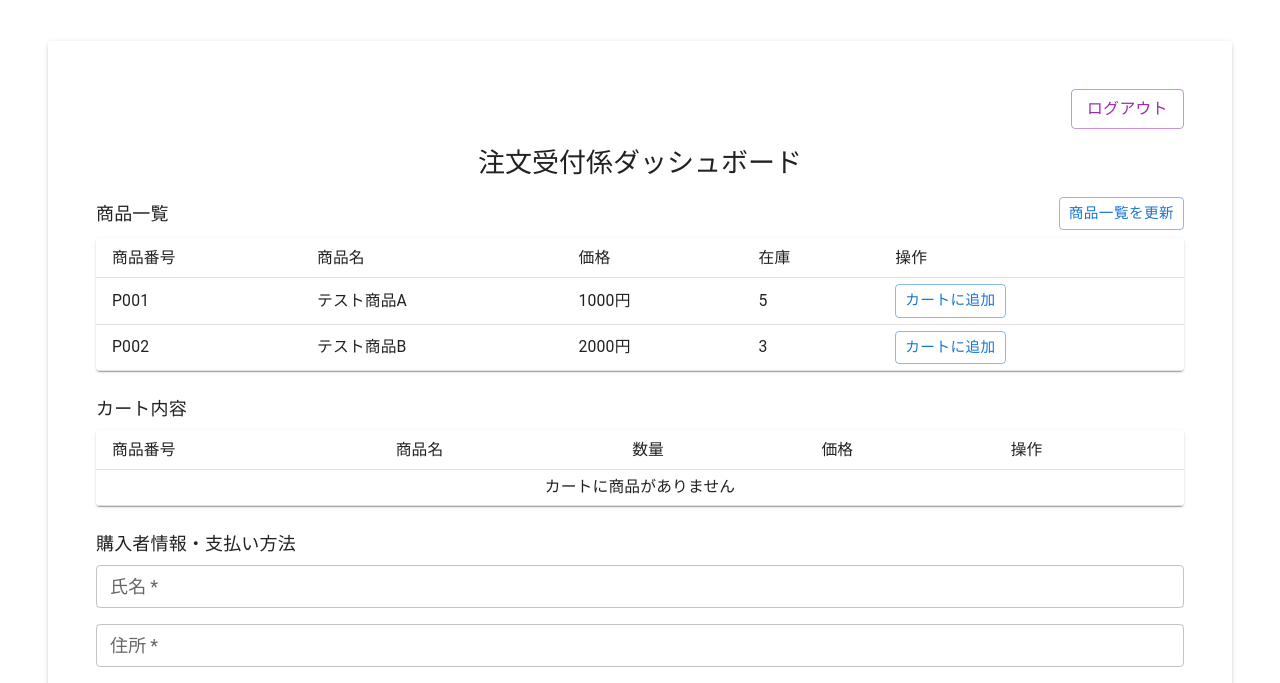
Scenario: OrderTakerDashboard › 正しい入力で注文確定すると完了メッセージが表示される
Check: the text "テスト商品A" is shown, box [301,278,562,324]
Click the button "カートに追加" in the row of "P001" at (950, 301), box [895,284,1006,318]
(page scrolled)
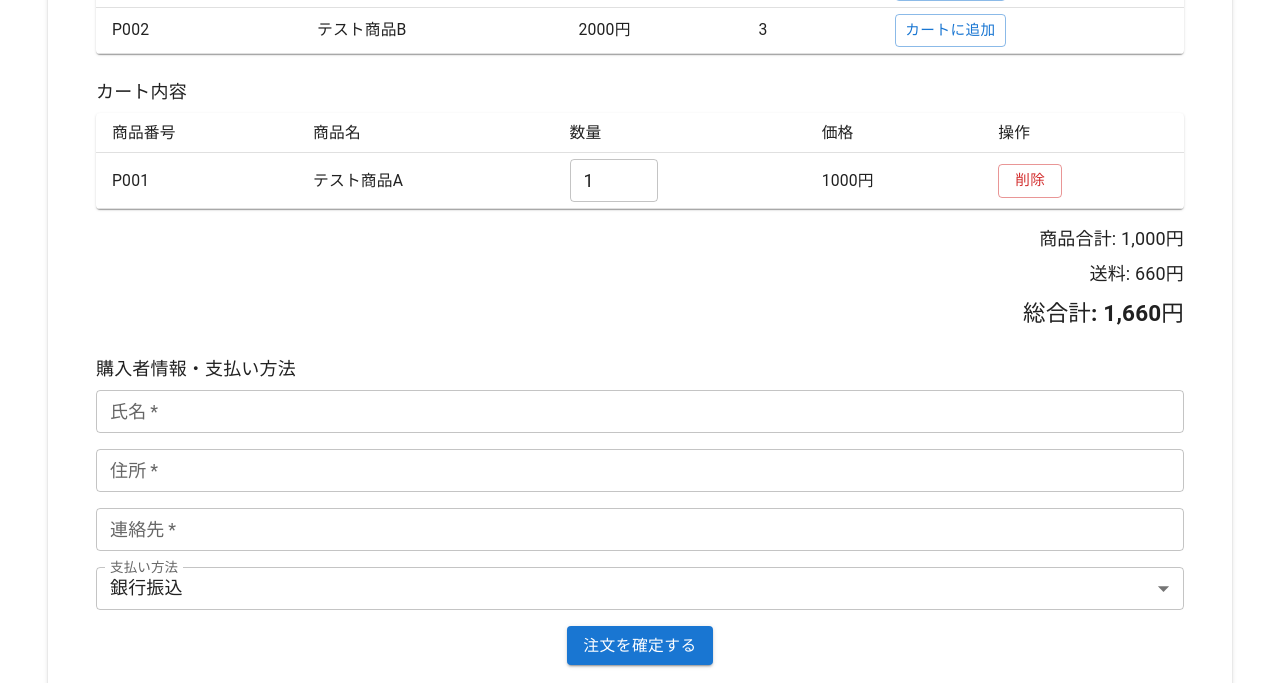
Check: the text "購入者情報・支払い方法" is shown, box [96,358,296,379]
Type "テスト太郎" into the field labelled "氏名 *" at (640, 412), box [96,390,1184,433]
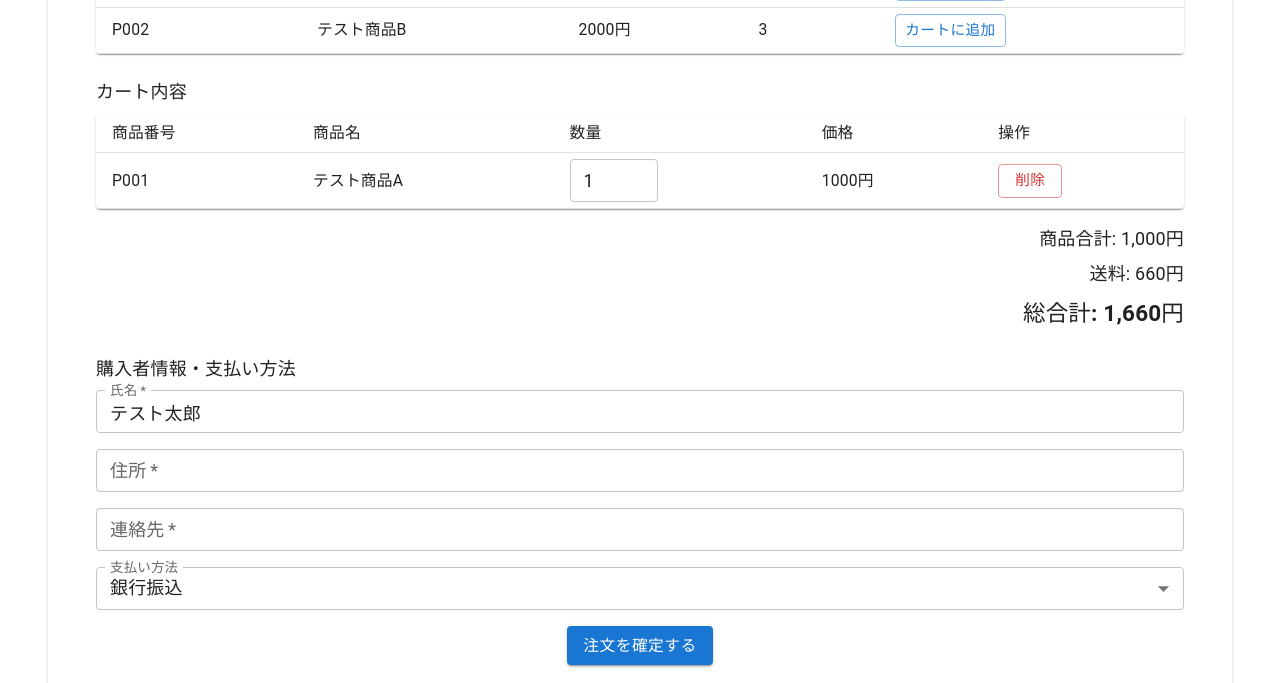
Type "東京都渋谷区" into the field labelled "住所 *" at (640, 471), box [96,449,1184,492]
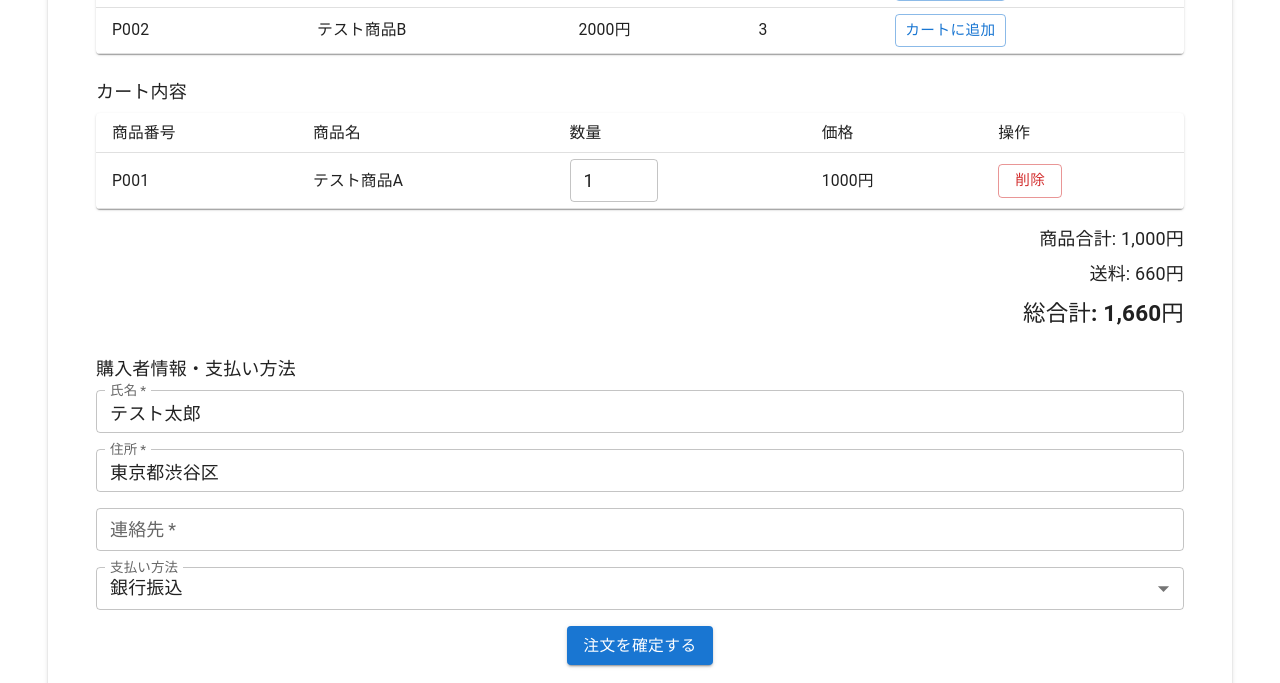
Type "090-1234-5678" into the field labelled "連絡先 *" at (640, 529), box [96,508,1184,551]
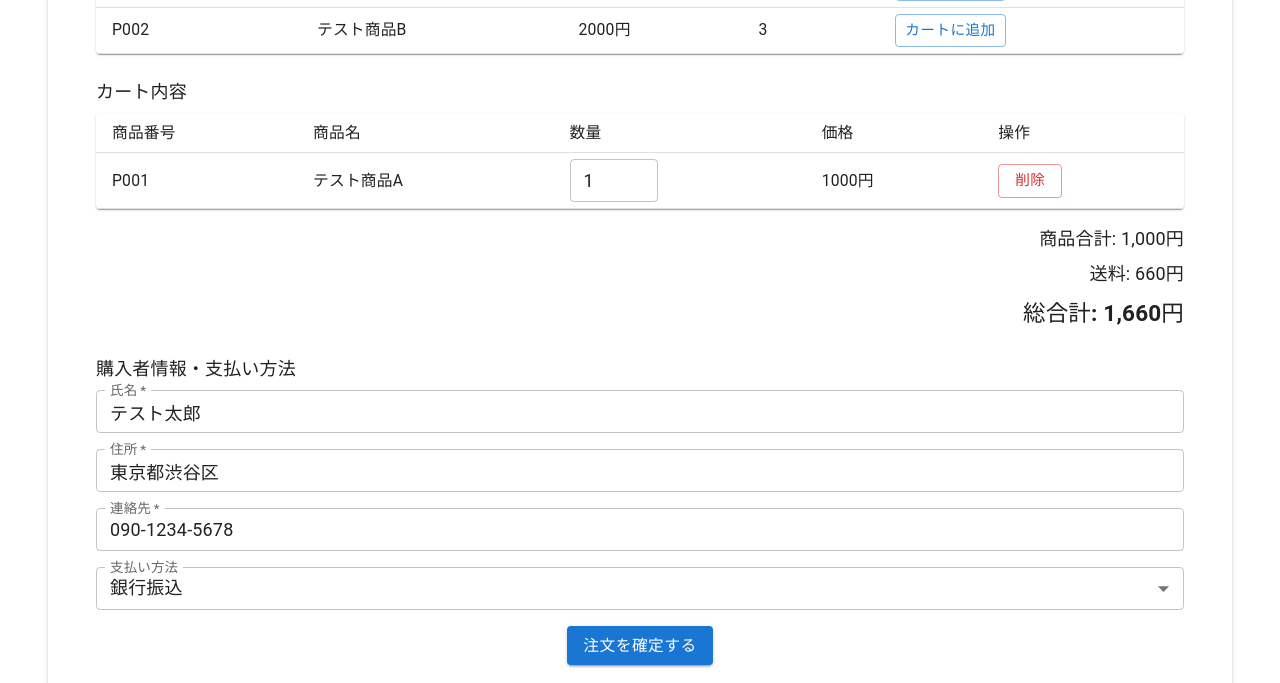
Note: 注文確定ボタンをクリック
Click the button "注文を確定する" at (640, 646), box [567,626,713,665]
(page scrolled)
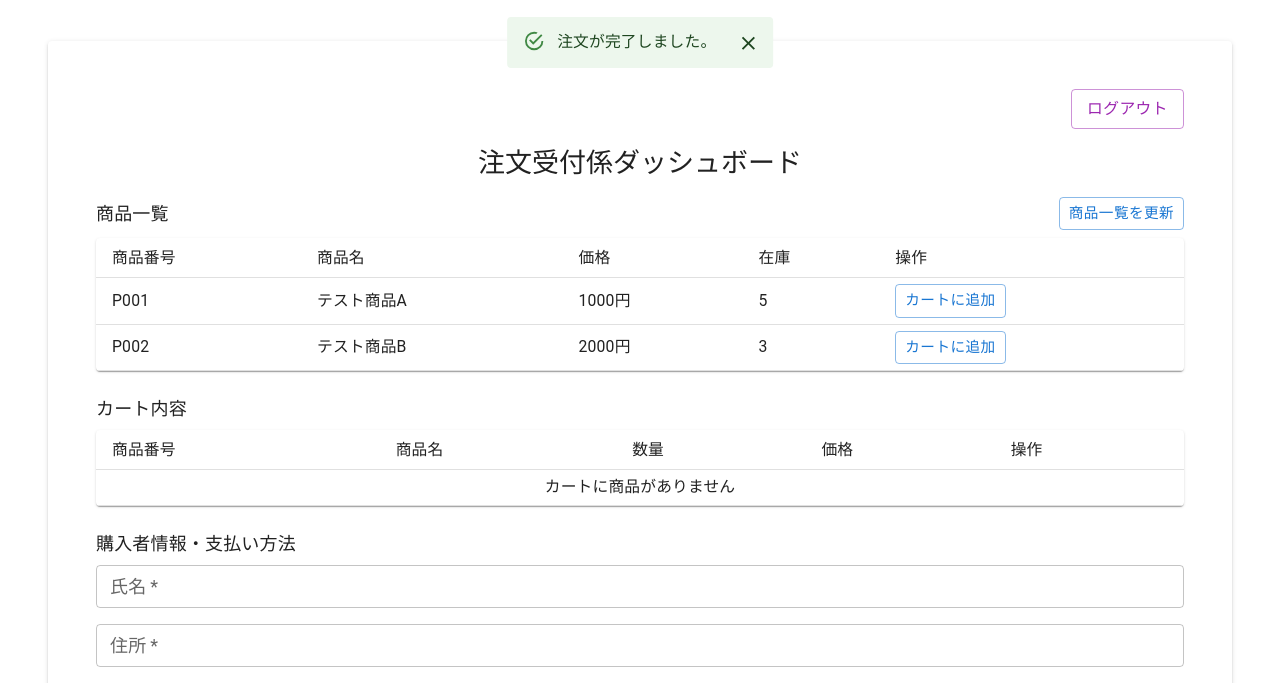
Check: the message reads "注文が完了しました。", box [557,32,716,51]
